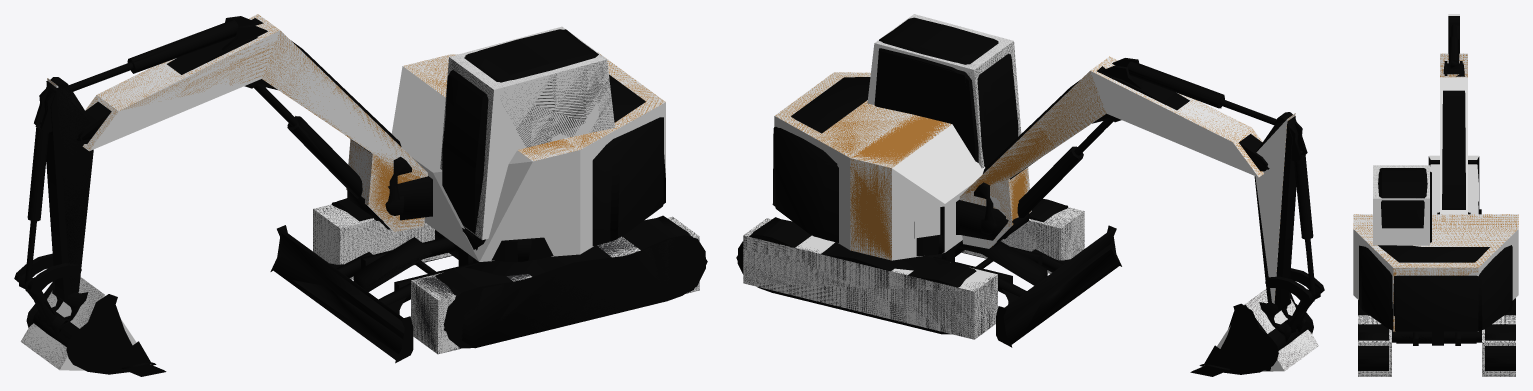
The model's file is excavator.dae.
3 views of the same model, side by side, from view 1: azimuth 30°, elevation 25°; view 2: azimuth 150°, elevation 25°; view 3: azimuth 270°, elevation 25° (orthographic). The views are drawn at different scales.
Visible parts, largest first — view 1: excavator_a400, Colmesh-1, excavator_a075, excavator_a025; view 2: Colmesh-1, excavator_a400, excavator_a025, excavator_a075; view 3: excavator_a400, Colmesh-1, excavator_a025, excavator_a075.
Part boxes in pixels (x1,y1,x2,y2): excavator_a400: (14, 16, 705, 376); Colmesh-1: (20, 14, 699, 370); excavator_a075: (15, 18, 707, 354); excavator_a025: (21, 14, 699, 368); Colmesh-1: (743, 14, 1318, 371); excavator_a400: (737, 17, 1324, 376); excavator_a025: (743, 14, 1317, 370); excavator_a075: (736, 31, 1323, 370); excavator_a400: (1358, 16, 1515, 370); Colmesh-1: (1353, 14, 1518, 376); excavator_a025: (1353, 53, 1518, 376); excavator_a075: (1358, 21, 1515, 363).
Size of the model in its own units: 6.58 by 2.44 by 3.24.
